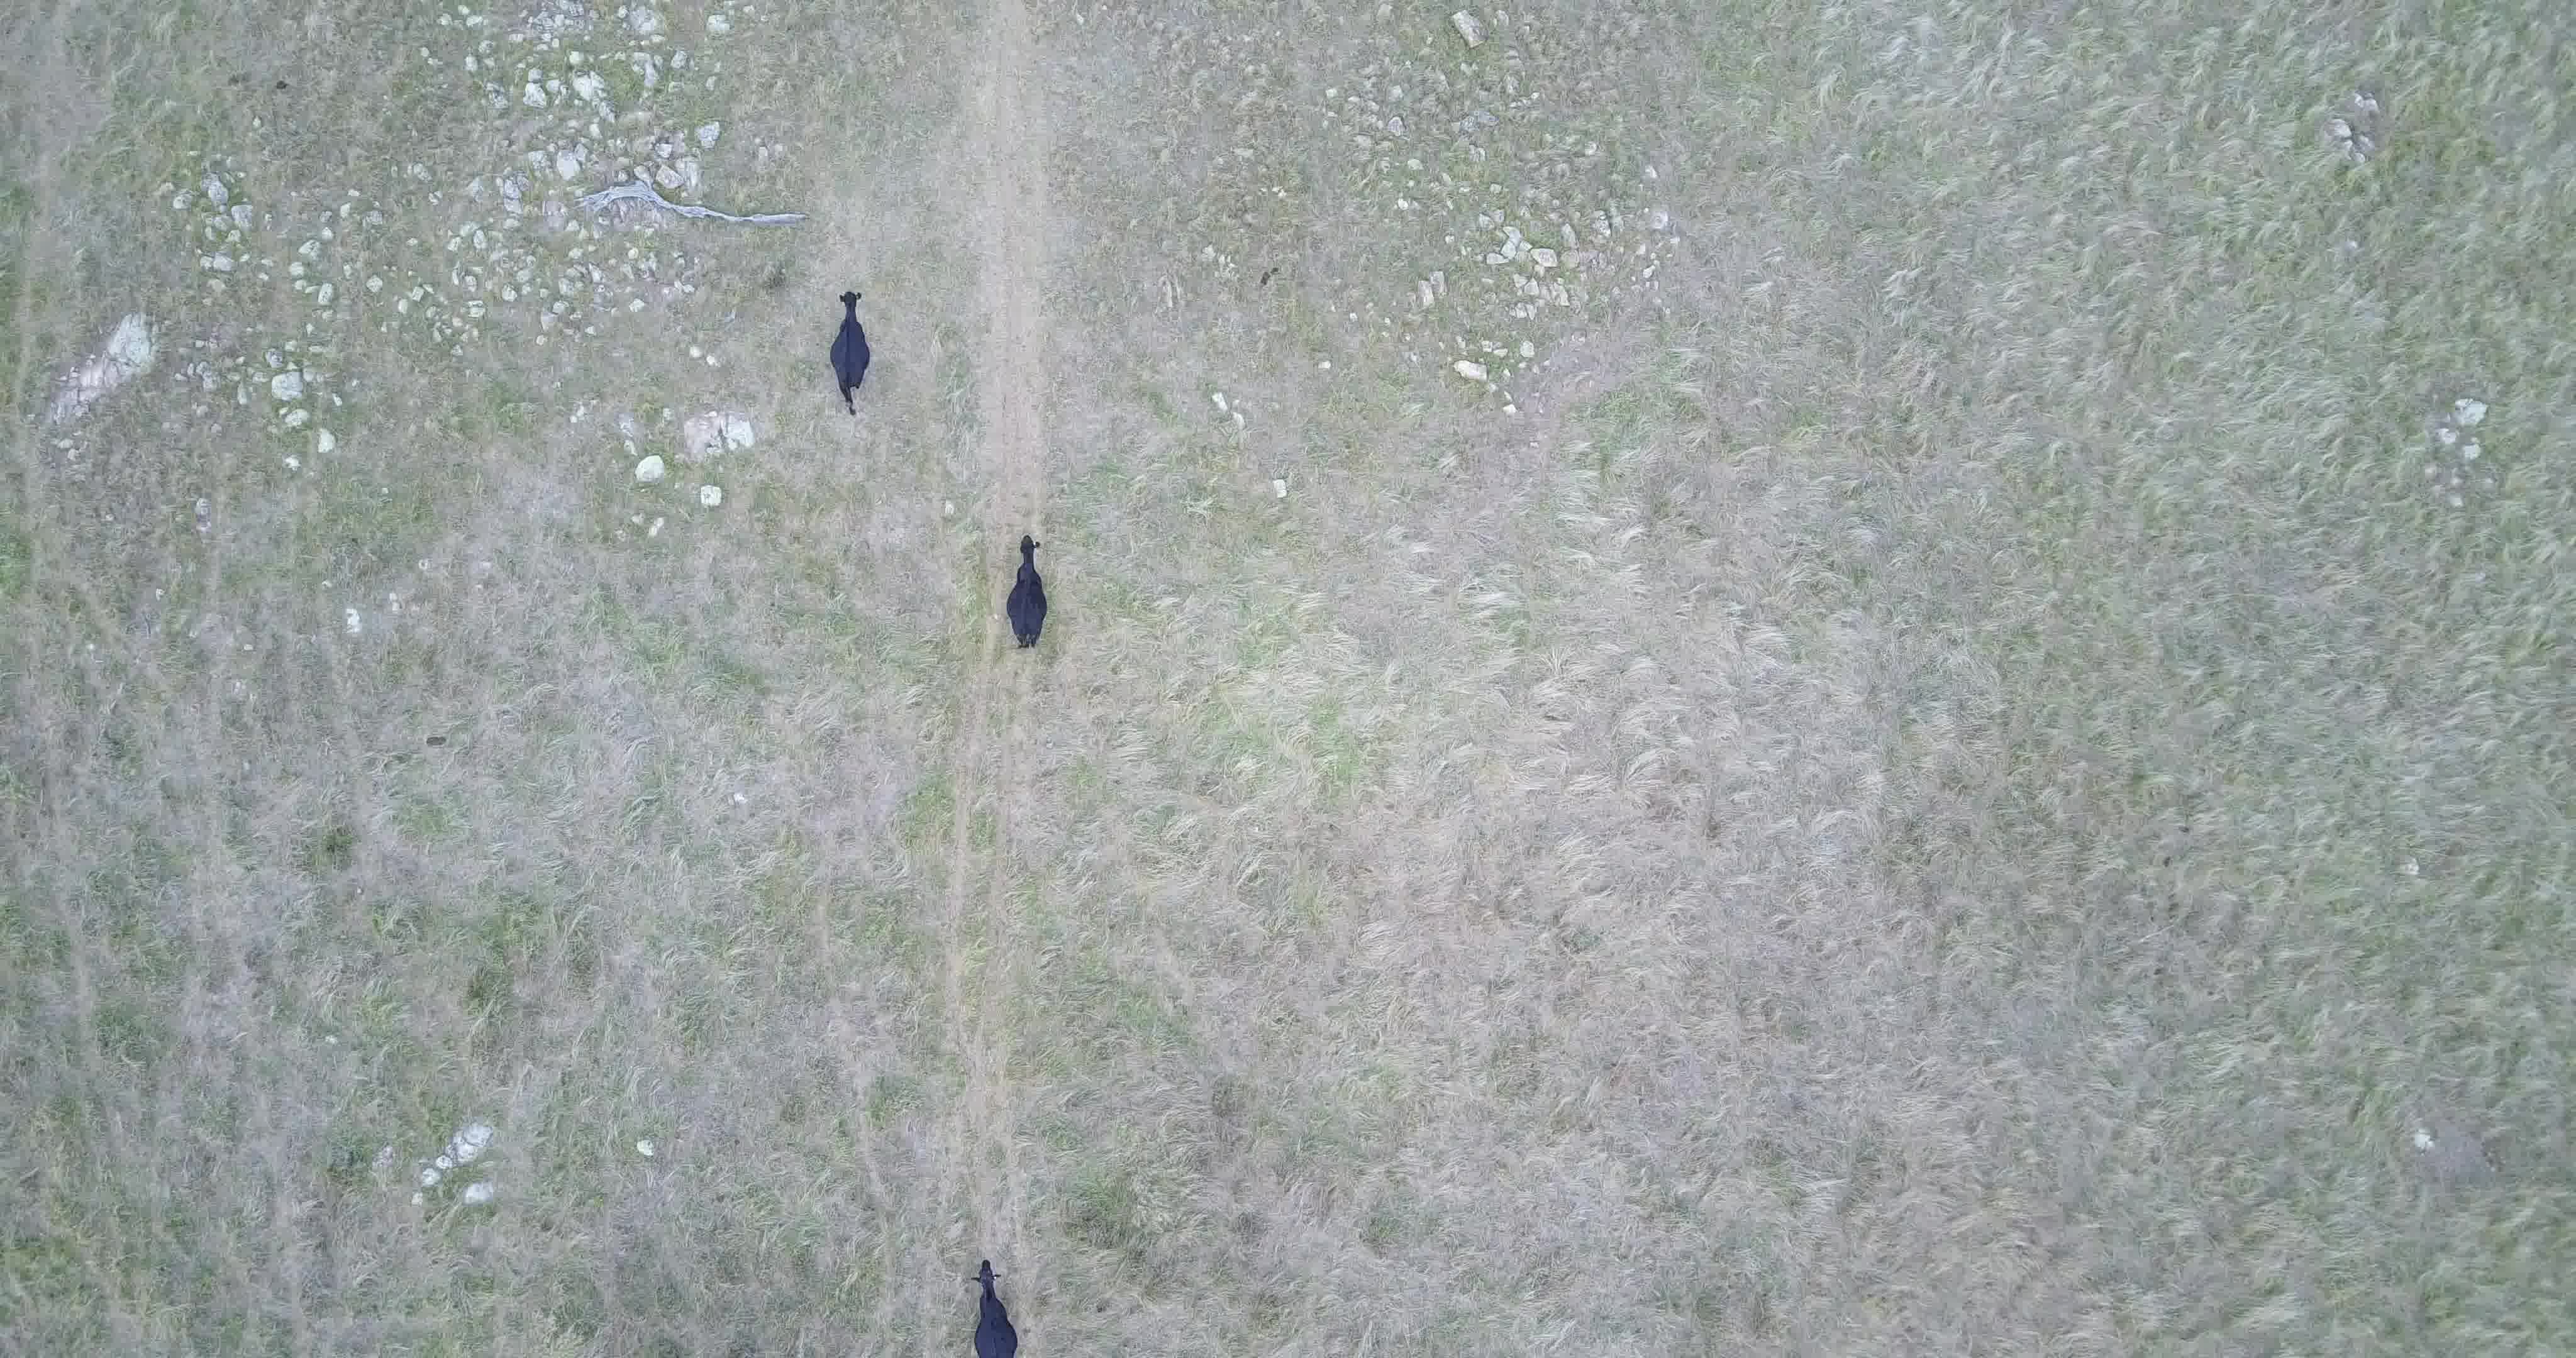cattle: (819, 278, 879, 419), (963, 1251, 1024, 1358), (998, 530, 1049, 658)
